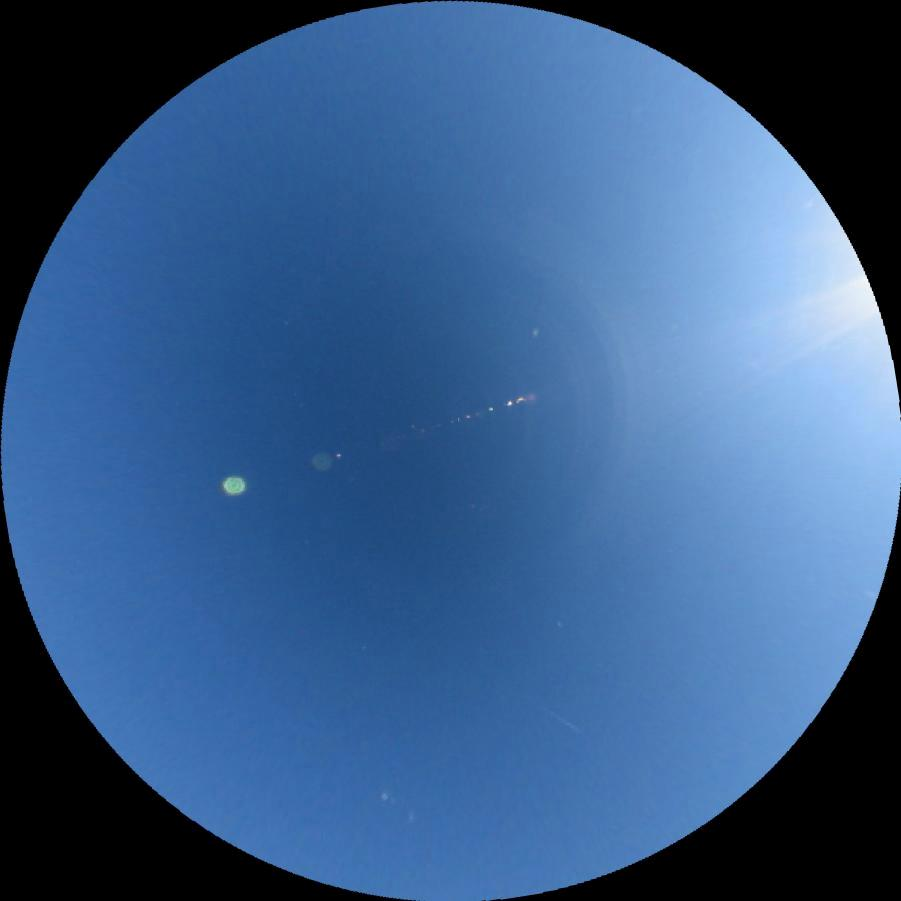contrail young: (532, 700, 581, 734)
